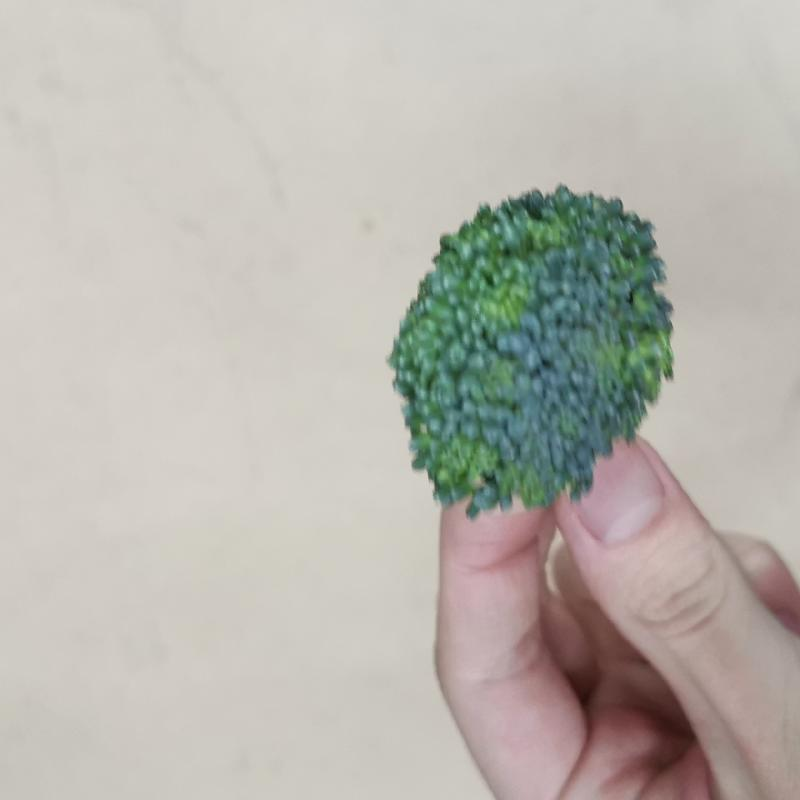broccoli: (381, 180, 669, 527)
